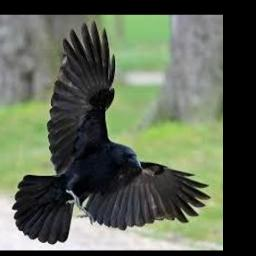Crow: (12, 20, 212, 243)
